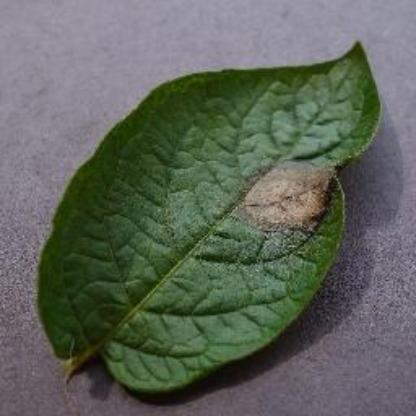Late-Blight: (0, 35, 400, 389)
